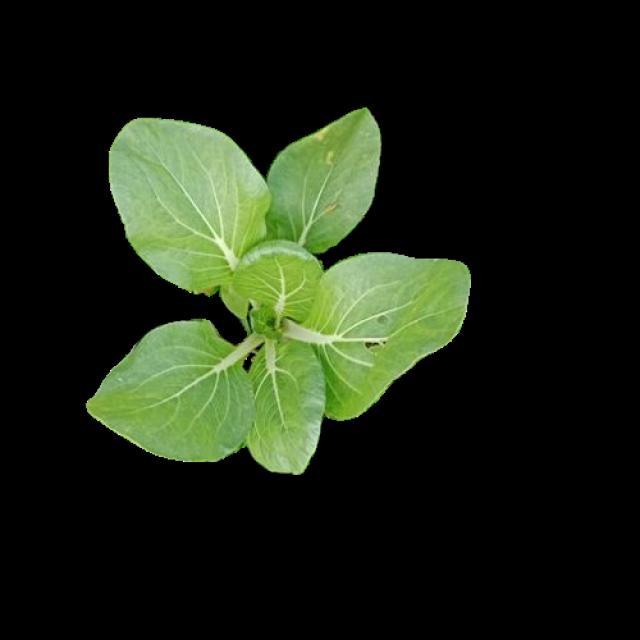not-mature: (90, 112, 468, 474)
unhealthy: (306, 252, 463, 417), (269, 113, 381, 248)
